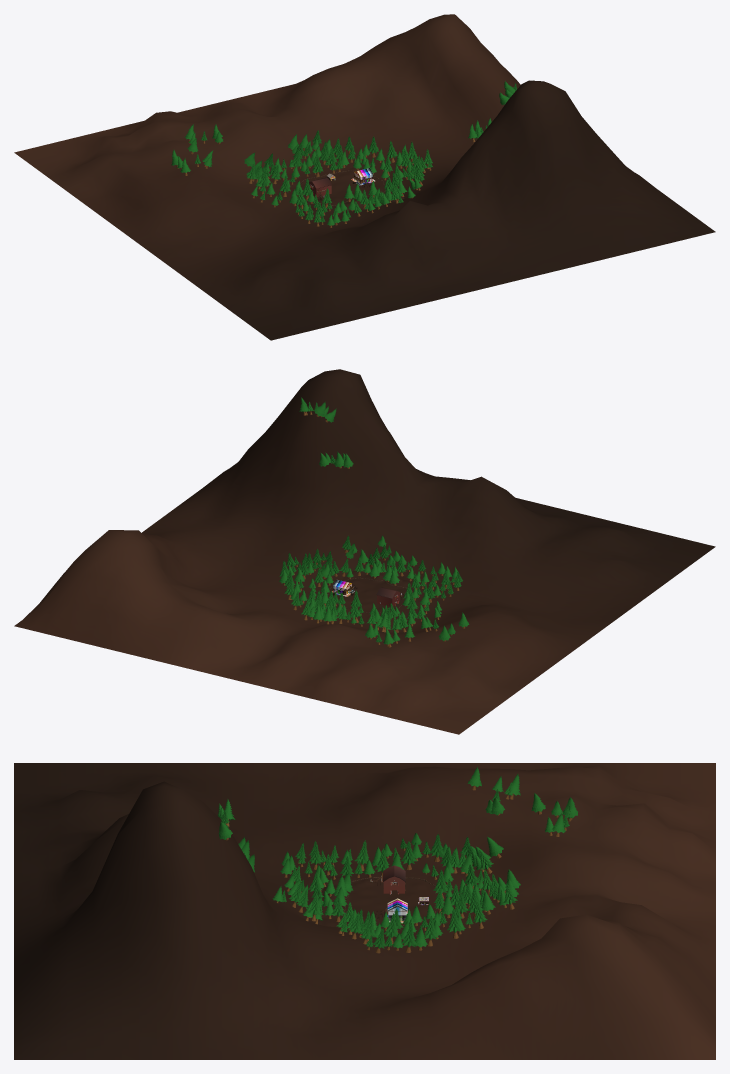
Rendered from All_map.fbx.
3 renders of one model, top to bottom at view 1: azimuth 30°, elevation 25°; view 2: azimuth 150°, elevation 25°; view 3: azimuth 270°, elevation 25°, orthographic. The views are drawn at different scales.
Visible parts, largest first — view 1: Exterior, TERRENO; view 2: Exterior, TERRENO; view 3: Exterior, TERRENO.
Boxes of the visible parts, left/top/right/bottom form: Exterior: left=14, top=14, right=715, bottom=340; TERRENO: left=280, top=166, right=404, bottom=215; Exterior: left=14, top=369, right=715, bottom=734; TERRENO: left=315, top=570, right=428, bottom=620; Exterior: left=14, top=763, right=715, bottom=1059; TERRENO: left=313, top=873, right=451, bottom=931.
Size of the model in its own units: 62639 by 19333 by 62639.
Materials: 20 (12 with a texture image).
